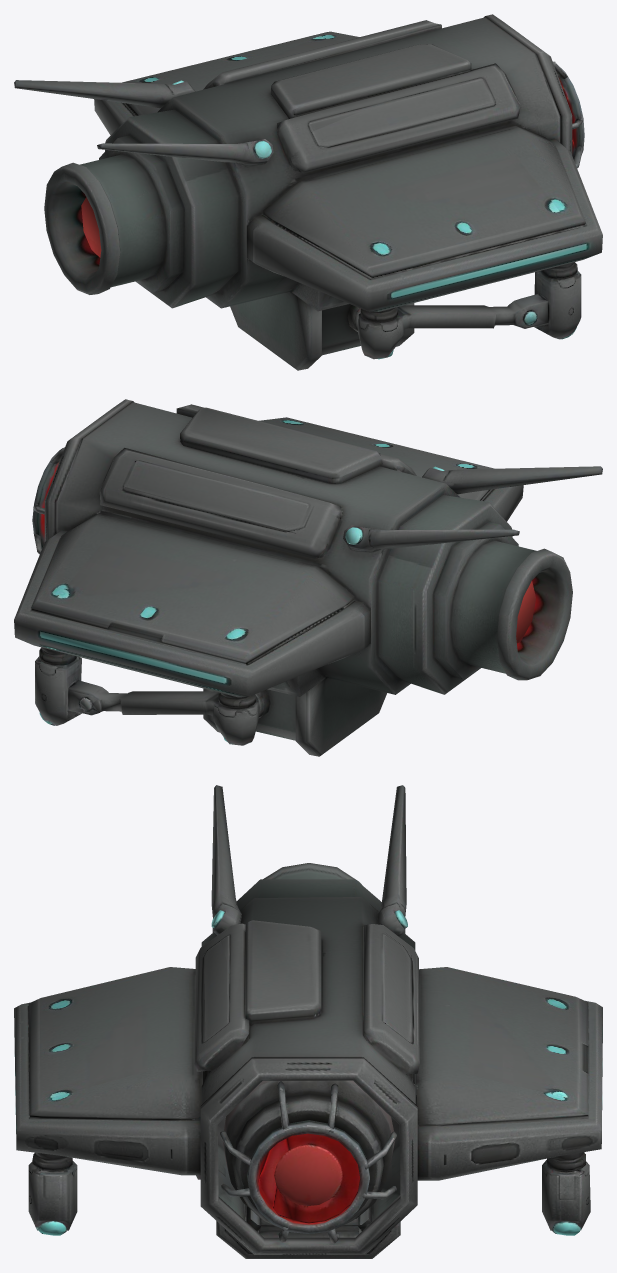
The model's file is tripo_convert_6063f93e-f42a-43f0-9e4b-e943f0ea4d2e.fbx.
The picture shows the model from 3 angles, top to bottom: view 1: azimuth 30°, elevation 25°; view 2: azimuth 150°, elevation 25°; view 3: azimuth 270°, elevation 25°; orthographic projection. The views are drawn at different scales.
Parts seen in each view (by area): view 1: tripo_node_6063f93e; view 2: tripo_node_6063f93e; view 3: tripo_node_6063f93e.
Part boxes in pixels (<box>): tripo_node_6063f93e: <box>14,14,602,370</box>; tripo_node_6063f93e: <box>14,399,602,756</box>; tripo_node_6063f93e: <box>14,785,602,1258</box>.
Size of the model in its own units: 0.998 by 0.5488 by 0.9434.
Materials: 1 (1 with a texture image).
